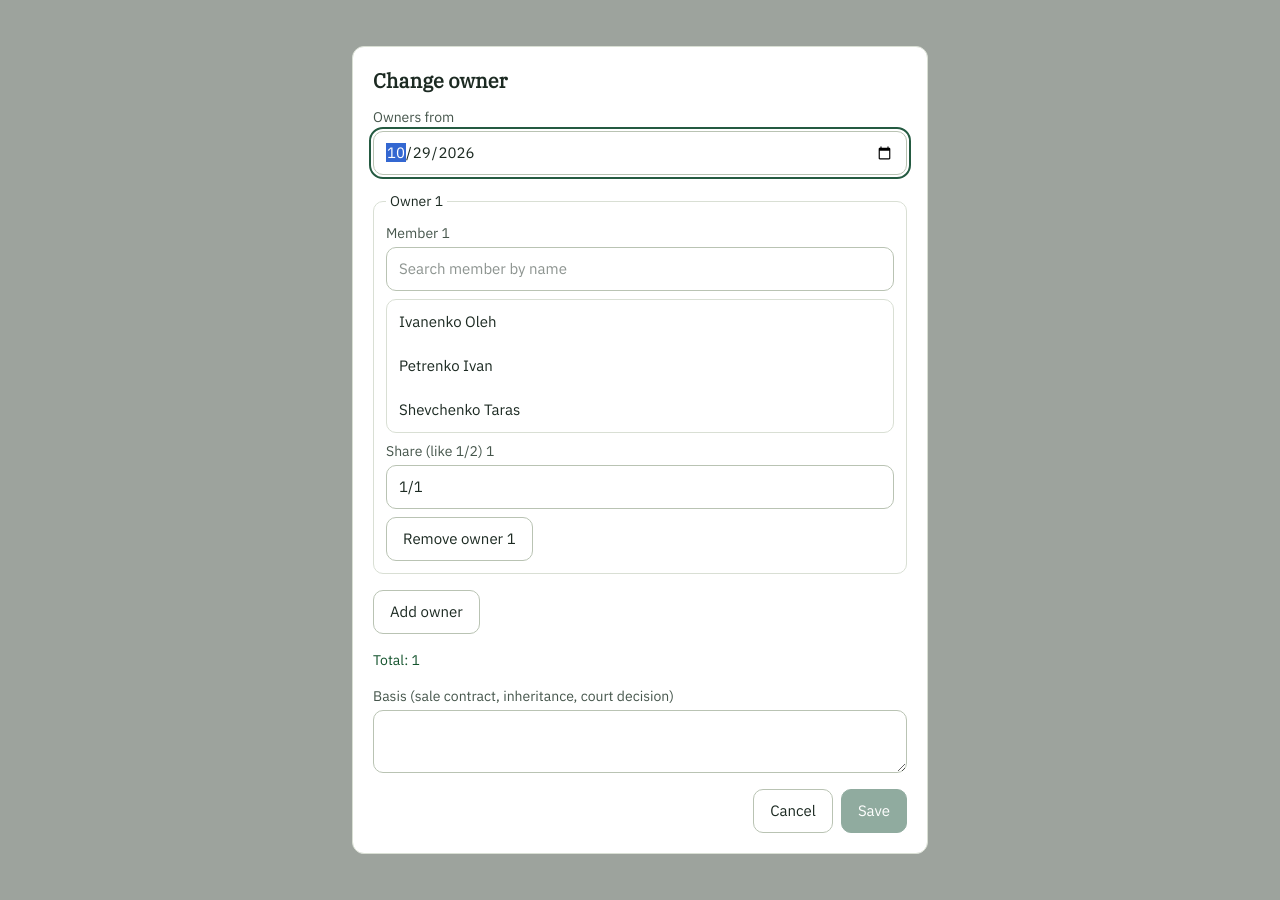
ChangeOwnerDialog › shows server field errors on the second row
This screenshot has width=1280, height=900.
Click the button "Ivanenko Oleh": (448, 321) [387, 300, 893, 344]
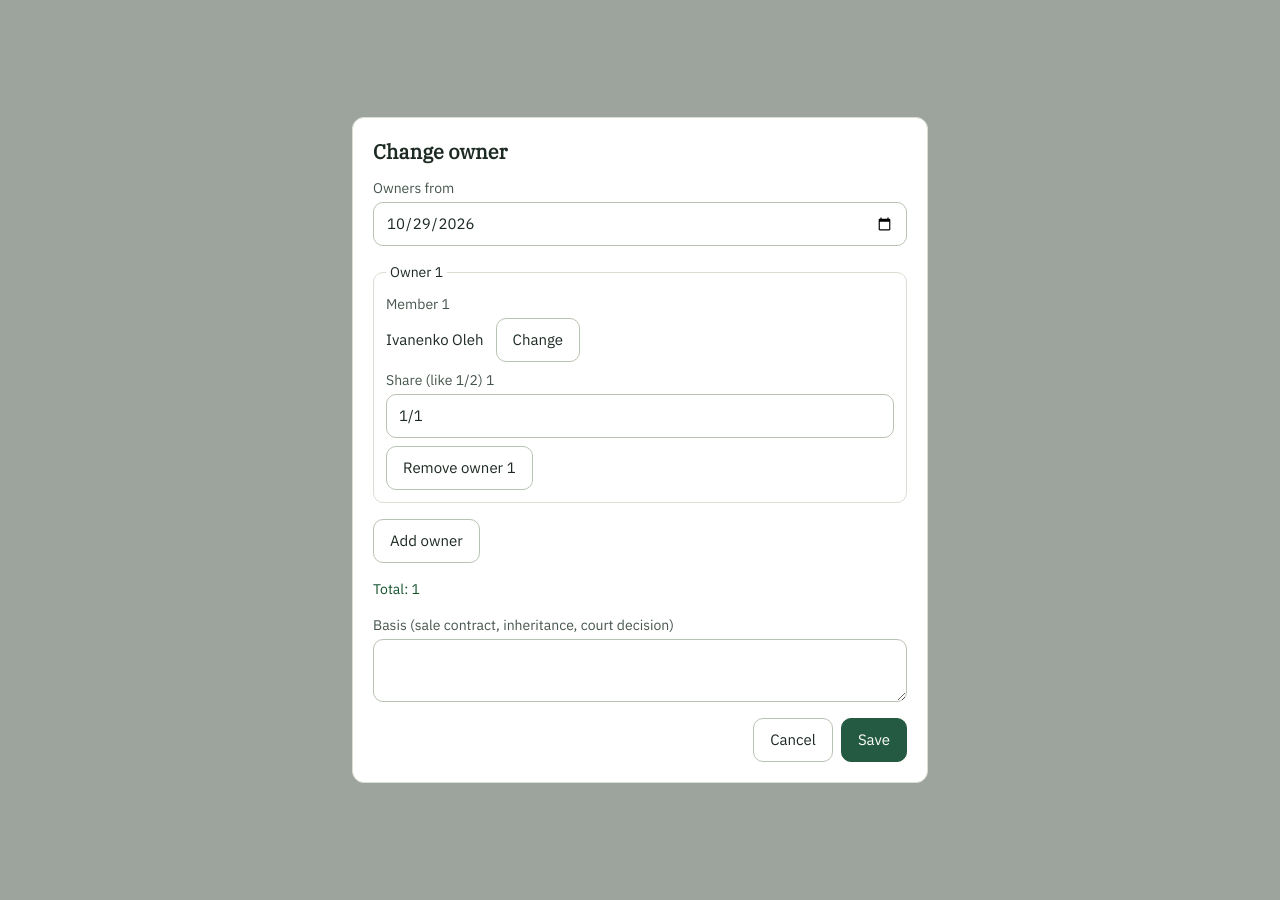
Replace the text in the field labelled "Share (like 1/2) 1" with "1/2": (640, 416) [386, 394, 894, 438]
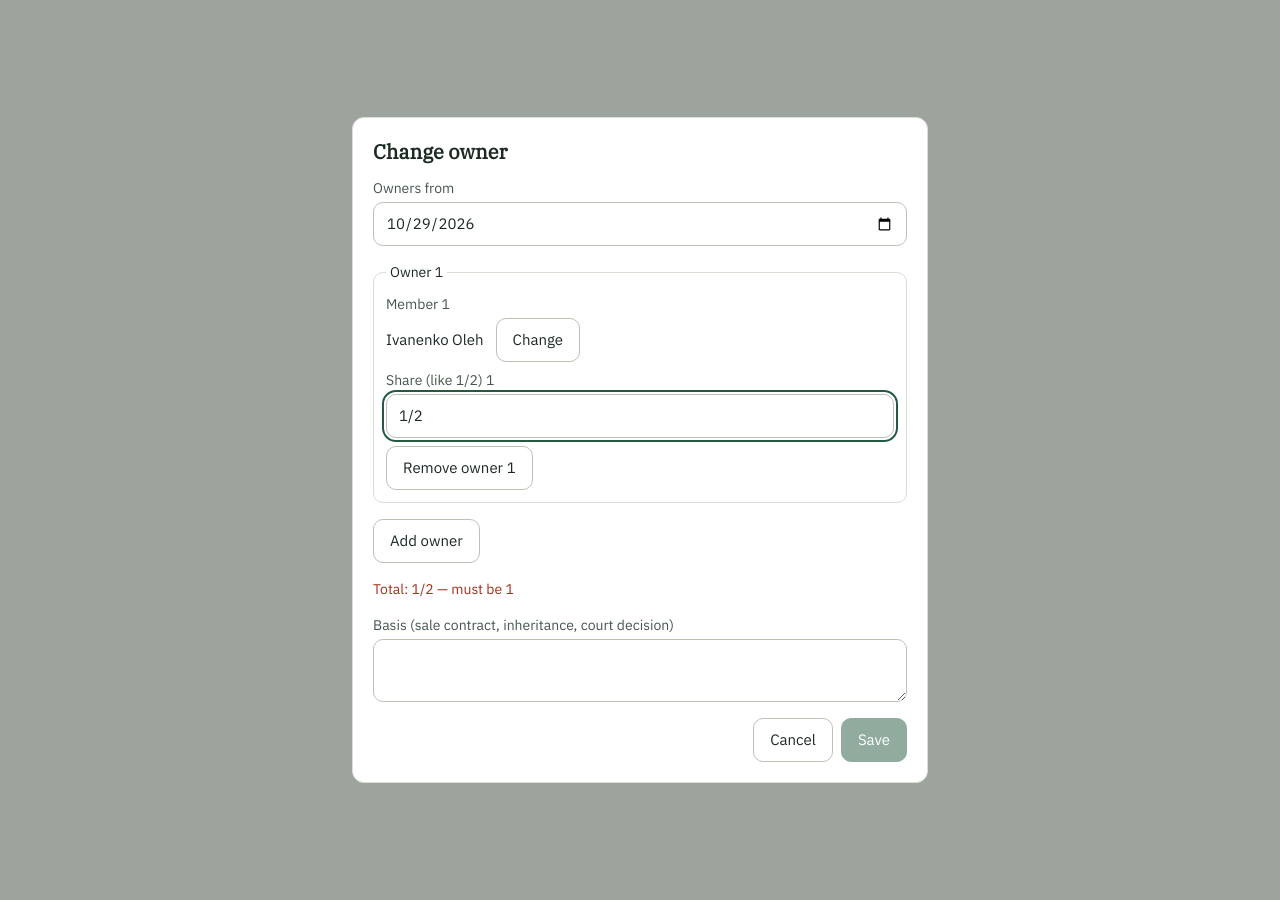
Click the button "Add owner": (426, 541) [373, 519, 480, 563]
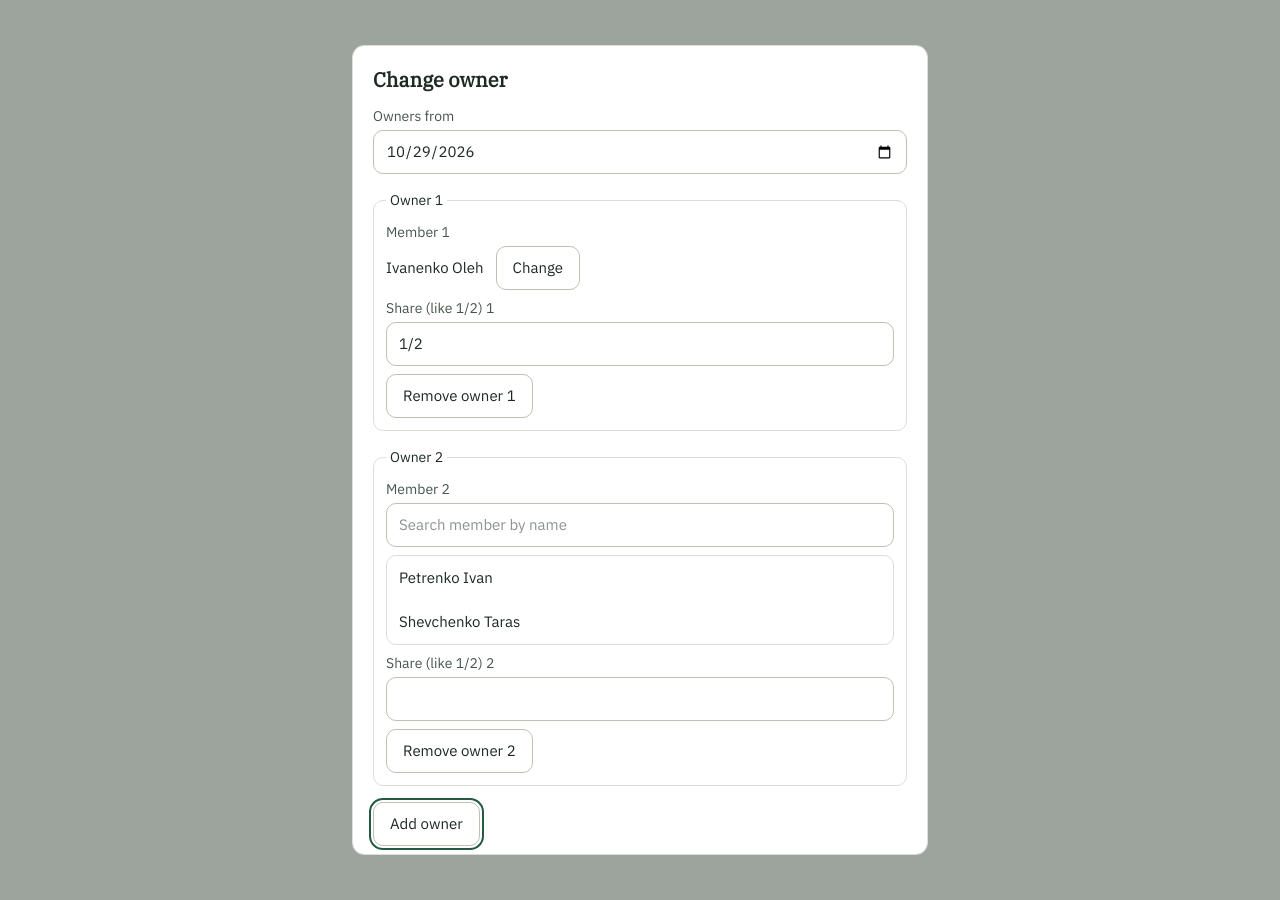
Click the button "Petrenko Ivan": (446, 577) [387, 556, 893, 600]
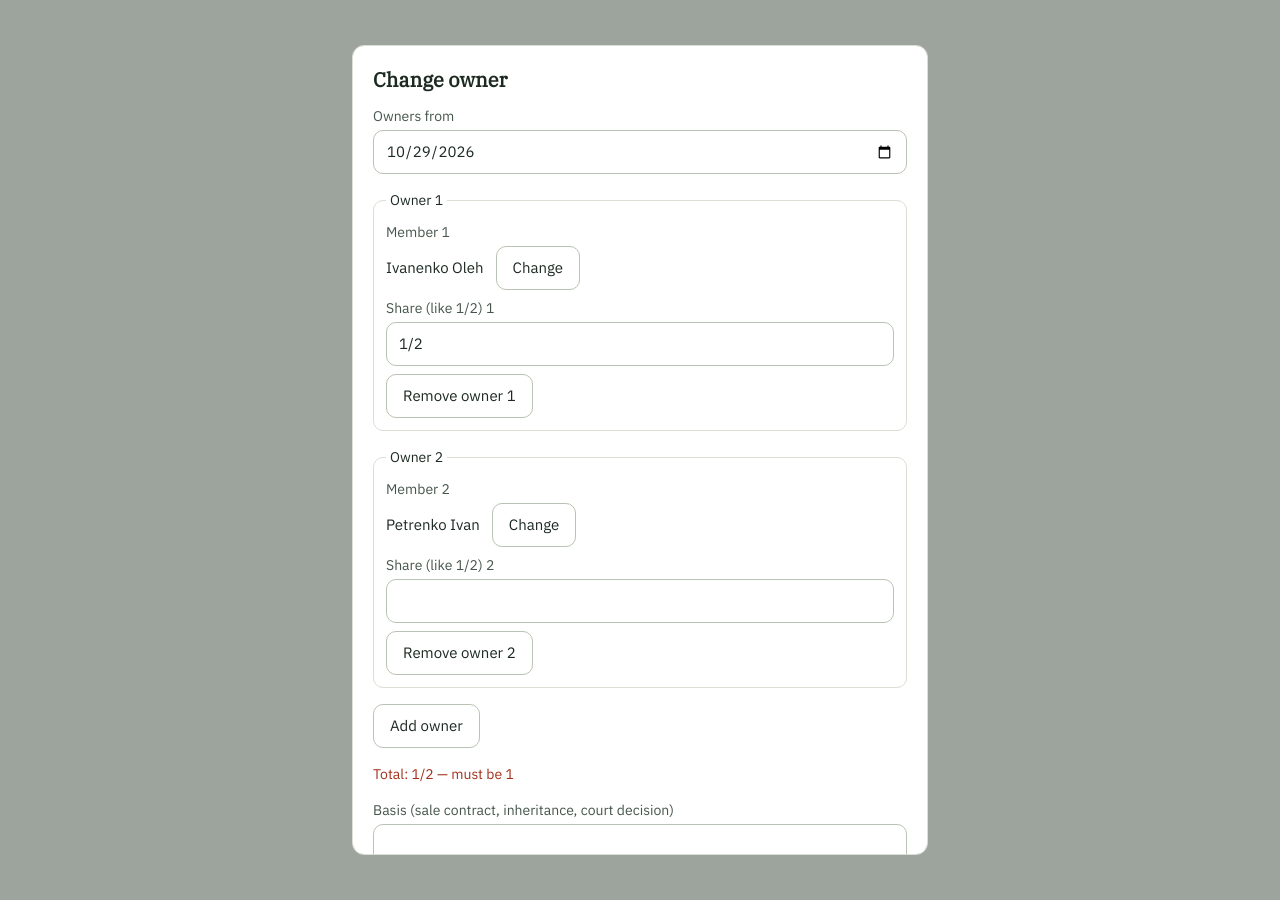
In the field labelled "Share (like 1/2) 2": (640, 601) [386, 579, 894, 623], type "1/2"
(page scrolled)
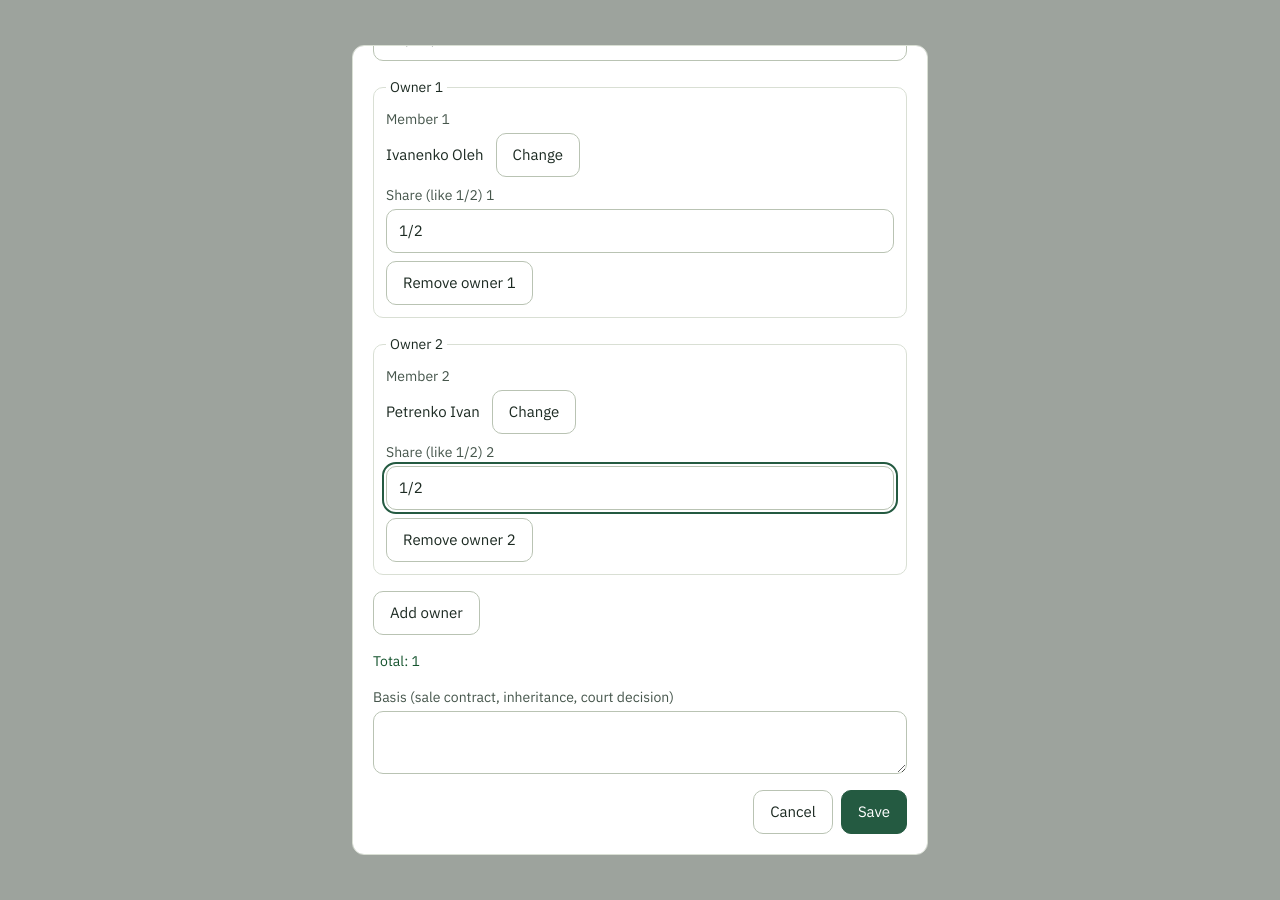
Result: the button "Save" is enabled
Click the button "Save": (874, 812) [841, 790, 907, 834]
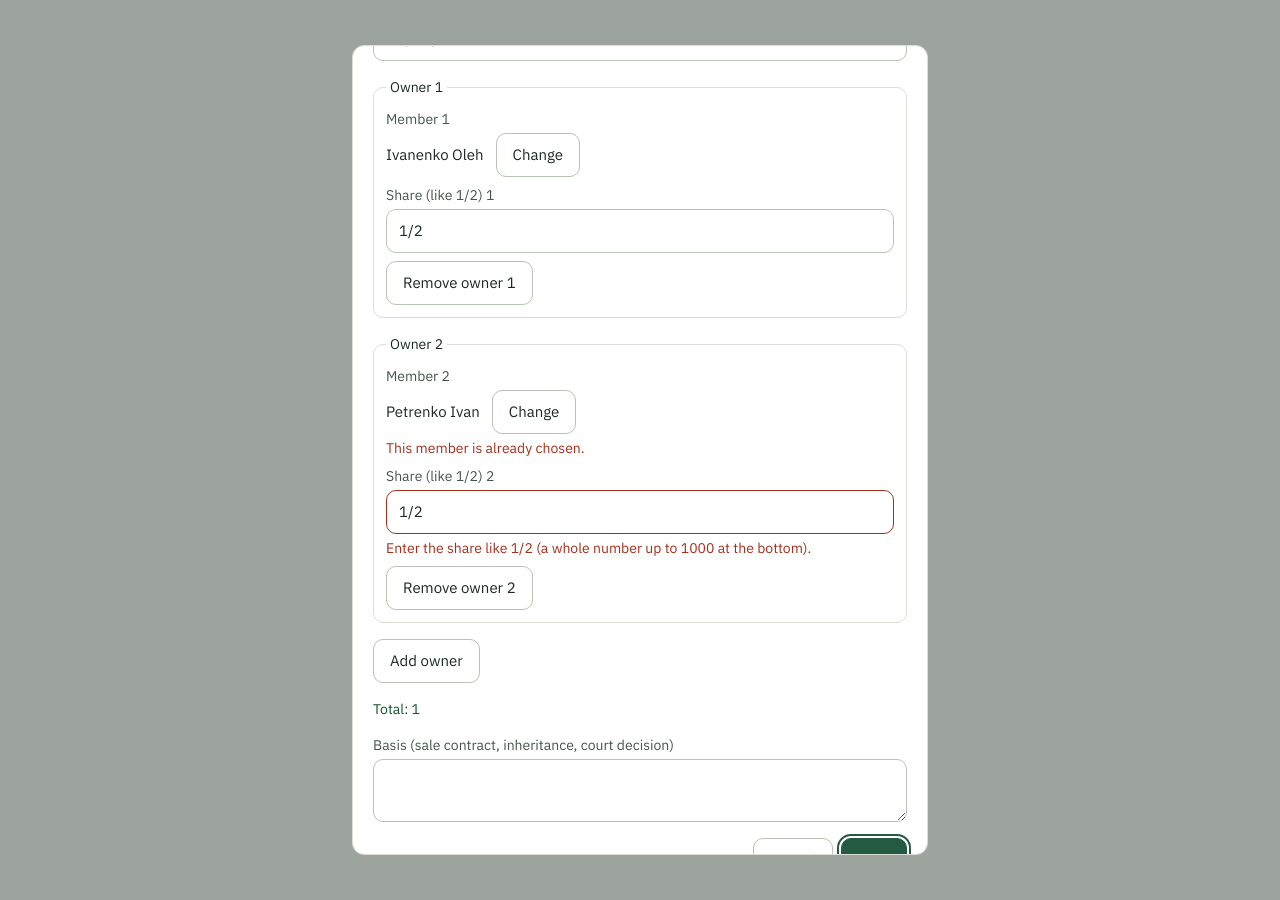
Result: the text "Enter the share like 1/2 (a whole number up to 1000 at the bottom)." is shown at [386, 539, 811, 557]
Result: the text "This member is already chosen." is shown at [386, 439, 585, 457]
